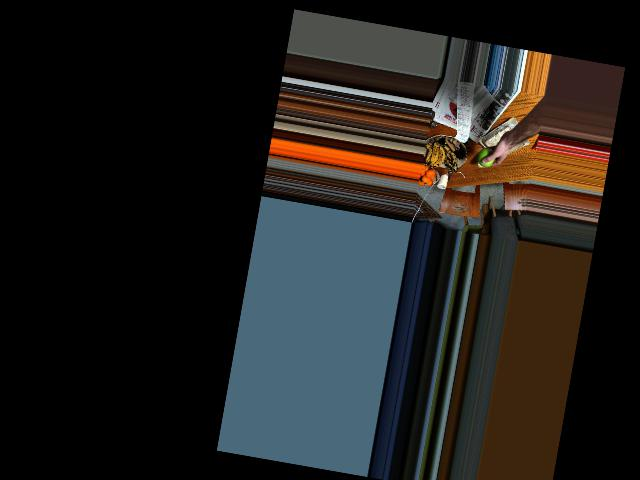apple: (475, 146, 497, 168)
